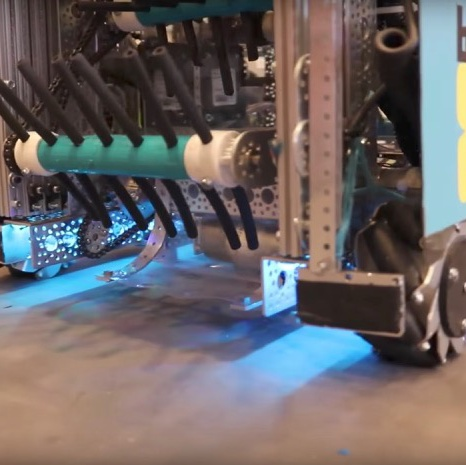robot: (1, 1, 466, 375)
